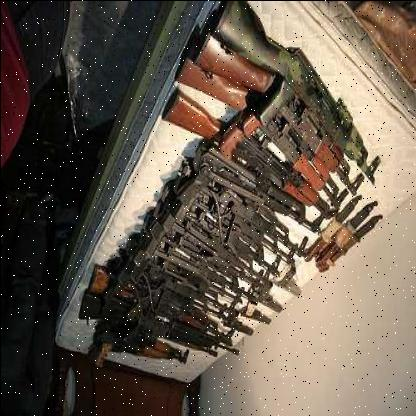rifle: (211, 1, 383, 194)
